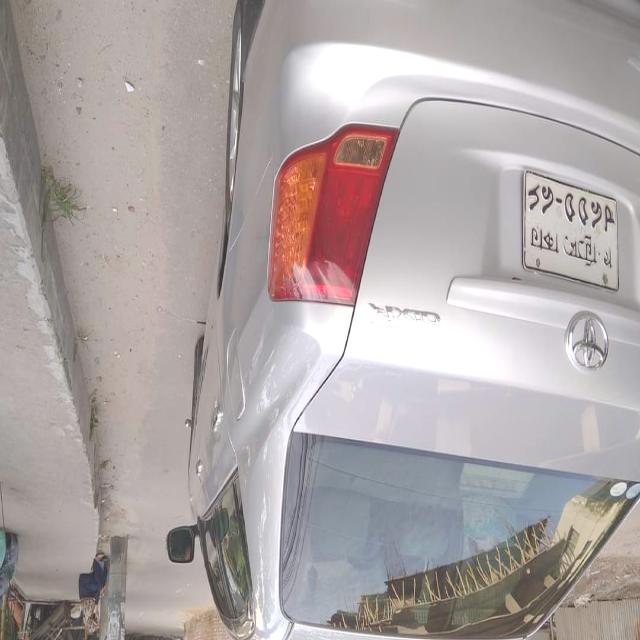silver: (165, 0, 640, 640)
